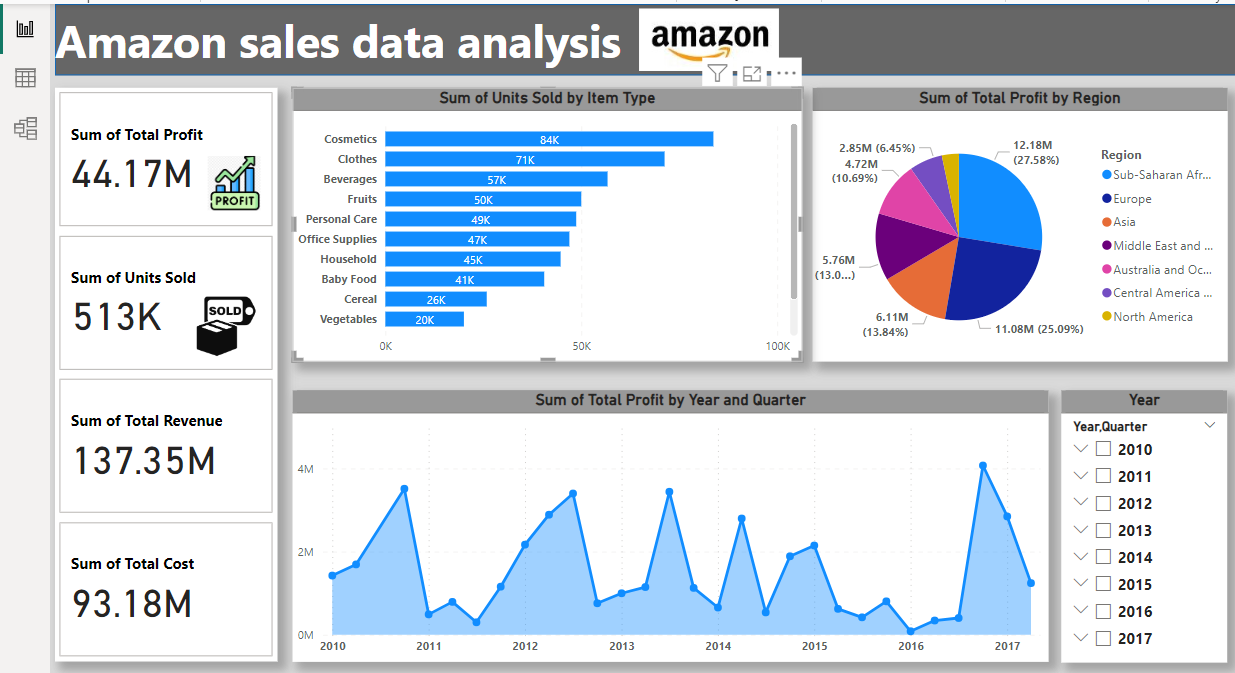

The dashboard page shown, as its layout file describes it:
{"tool":"powerbi","page":{"name":"Page 1","canvas":[1280,720],"ordinal":0},"visuals":[{"type":"shape","box":[5.5,0,1275.1,76.7],"z":0},{"type":"barChart","fields":{"Category":["Amazon Sales data123.Item Type"],"Y":["Sum(Amazon Sales data123.Units Sold)"]},"box":[260.7,90,548.2,294.3],"z":1000},{"type":"cardVisual","fields":{"Data":["Sum(Amazon Sales data123.Total Profit)","Sum(Amazon Sales data123.Units Sold)","Sum(Amazon Sales data123.Total Revenue)","Sum(Amazon Sales data123.Total Cost)"]},"box":[5.4,90,239.2,616.8],"z":2000},{"type":"pieChart","fields":{"Category":["Amazon Sales data123.Region"],"Y":["Sum(Amazon Sales data123.Total Profit)"]},"box":[819.7,90,446.1,294.3],"z":3000},{"type":"stackedAreaChart","fields":{"Category":["Amazon Sales data123.Order Date.Variation.Date Hierarchy.Year","Amazon Sales data123.Order Date.Variation.Date Hierarchy.Quarter"],"Y":["Sum(Amazon Sales data123.Total Profit)"]},"box":[260.5,415.4,813,292],"z":4000},{"type":"slicer","title":"Year","fields":{"Values":["Amazon Sales data123.Order Date.Variation.Date Hierarchy.Year","Amazon Sales data123.Order Date.Variation.Date Hierarchy.Quarter"]},"box":[1087.1,413.9,178.7,292.9],"z":5000},{"type":"image","box":[430.5,0,556.6,76.8],"z":6000},{"type":"image","box":[163.9,158.6,68.5,68.5],"z":7000},{"type":"image","box":[147.8,305,84.7,79.3],"z":8000}]}

Visuals, with their boxes in screenshot pixels (x1, y1, x2, y2):
shape: locate(53, 0, 1227, 71)
barChart - Amazon Sales data123.Item Type x Sum(Amazon Sales data123.Units Sold): locate(288, 83, 793, 354)
cardVisual - Sum(Amazon Sales data123.Total Profit) x Sum(Amazon Sales data123.Units Sold): locate(53, 83, 273, 651)
pieChart - Amazon Sales data123.Region x Sum(Amazon Sales data123.Total Profit): locate(803, 83, 1214, 354)
stackedAreaChart - Amazon Sales data123.Order Date.Variation.Date Hierarchy.Year x Amazon Sales data123.Order Date.Variation.Date Hierarchy.Quarter: locate(288, 382, 1037, 651)
"Year" slicer: locate(1049, 381, 1214, 651)
image: locate(445, 0, 957, 71)
image: locate(199, 146, 262, 209)
image: locate(184, 281, 262, 354)
